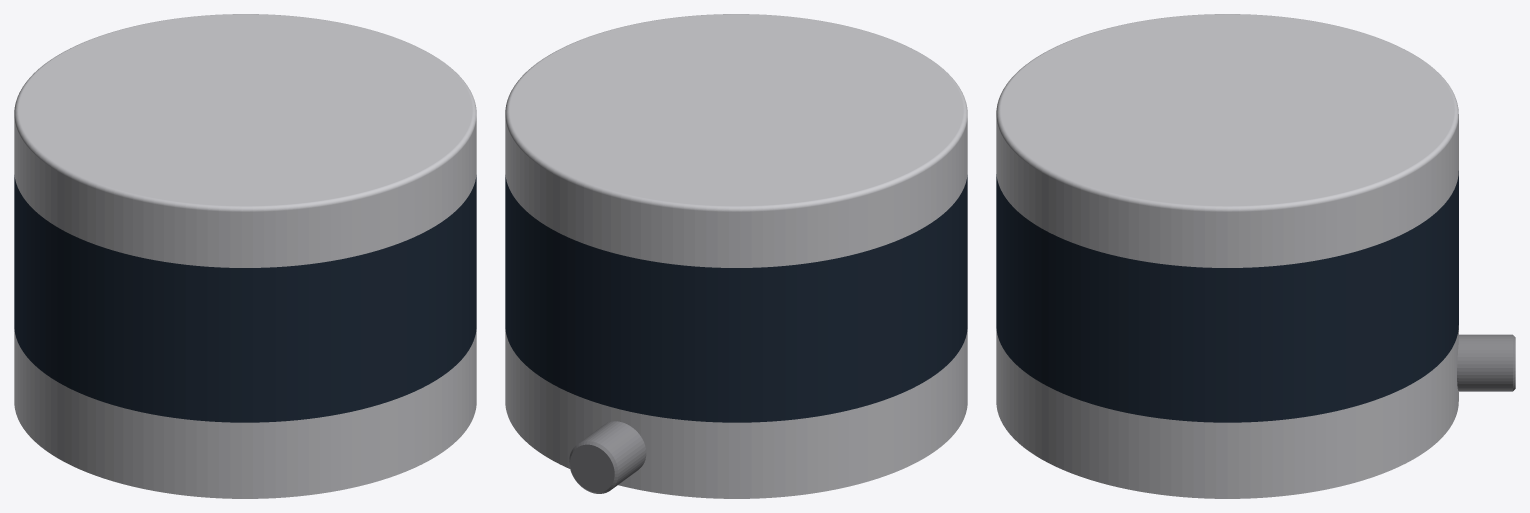
File: velodyne-vlp-16.glb
The picture shows the model from 3 angles, left to right: view 1: azimuth 30°, elevation 25°; view 2: azimuth 150°, elevation 25°; view 3: azimuth 270°, elevation 25°; orthographic projection.
Visible parts, largest first — view 1: velodyne-vlp-16; view 2: velodyne-vlp-16; view 3: velodyne-vlp-16.
Part boxes in pixels (x1,y1,x2,y2): velodyne-vlp-16: [14, 14, 476, 498]; velodyne-vlp-16: [505, 14, 967, 498]; velodyne-vlp-16: [996, 14, 1515, 498].
Size of the model in its own units: 103 by 71.7 by 116.
